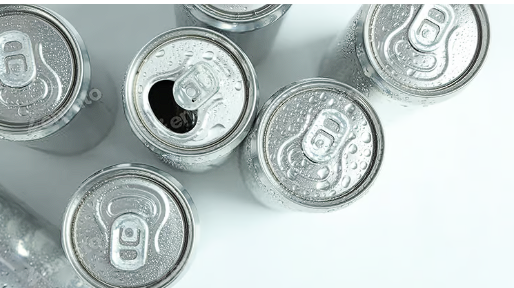Danificado: (130, 32, 253, 157)
Intacto: (265, 85, 380, 202), (72, 174, 189, 288), (0, 12, 97, 134), (362, 2, 486, 91)
